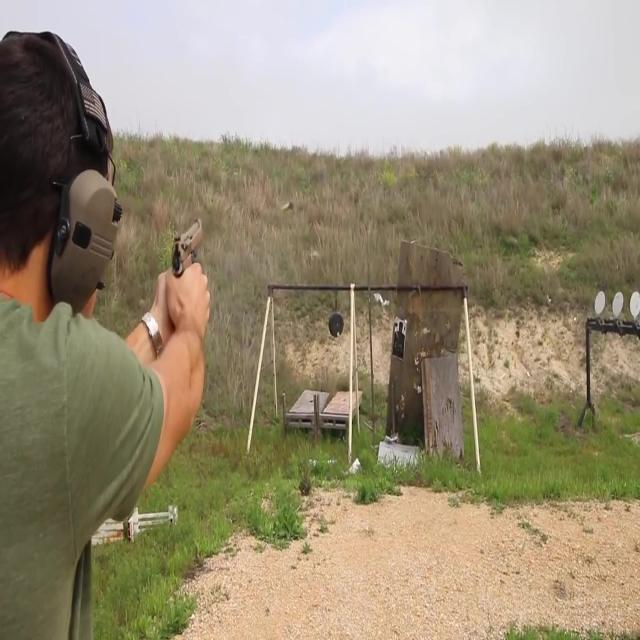Weapon: (156, 167, 259, 387), (282, 183, 308, 238)
